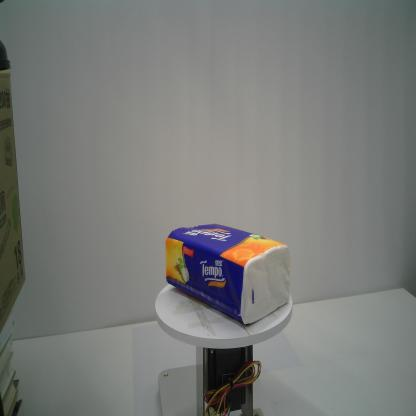Tissue: (164, 222, 292, 326)
